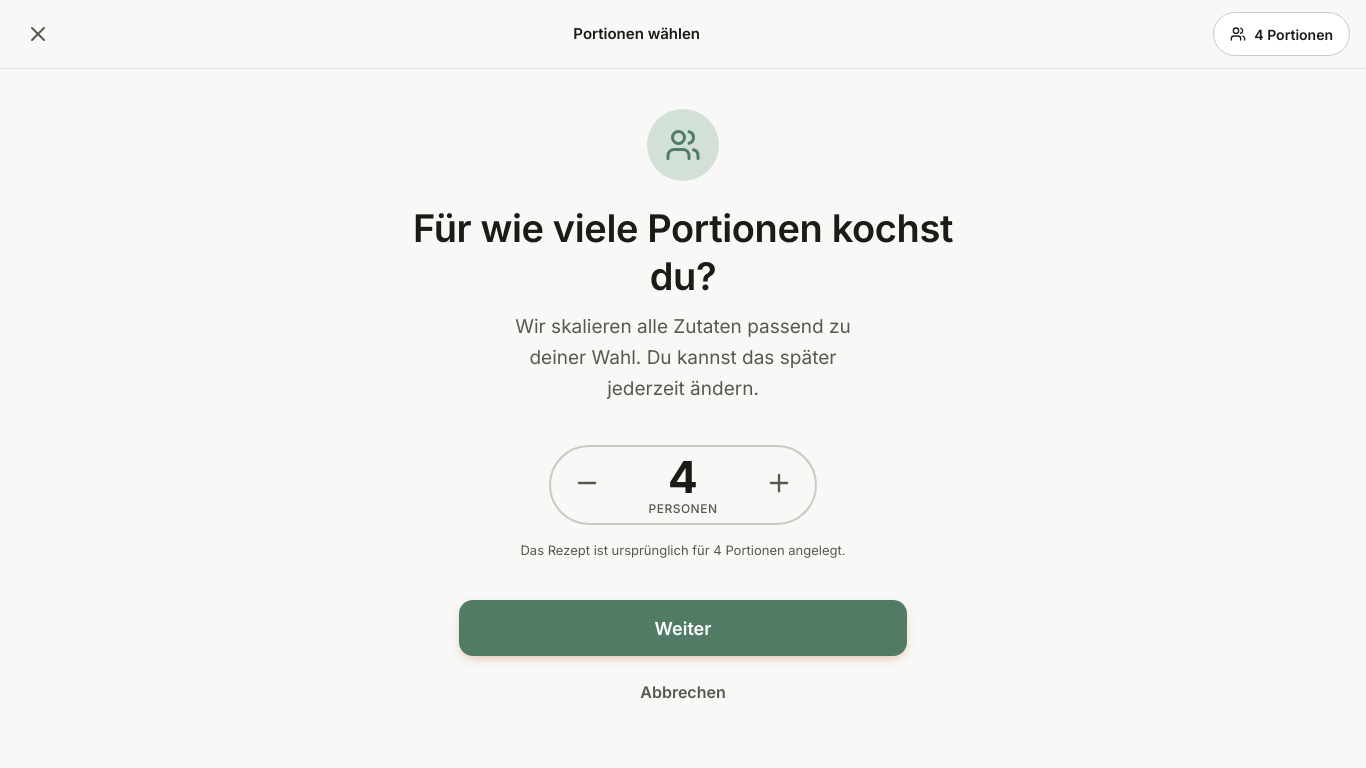
Test: CookModePage — exit confirmation › cancel keeps the user in cook mode
The width and height of the screenshot is (1366, 768).
Expected: the element with test id "cook-portions-picker" is shown, [413,109,953,716]
Click the button named "Kochmodus schliessen": (38, 34) [16,12,60,56]
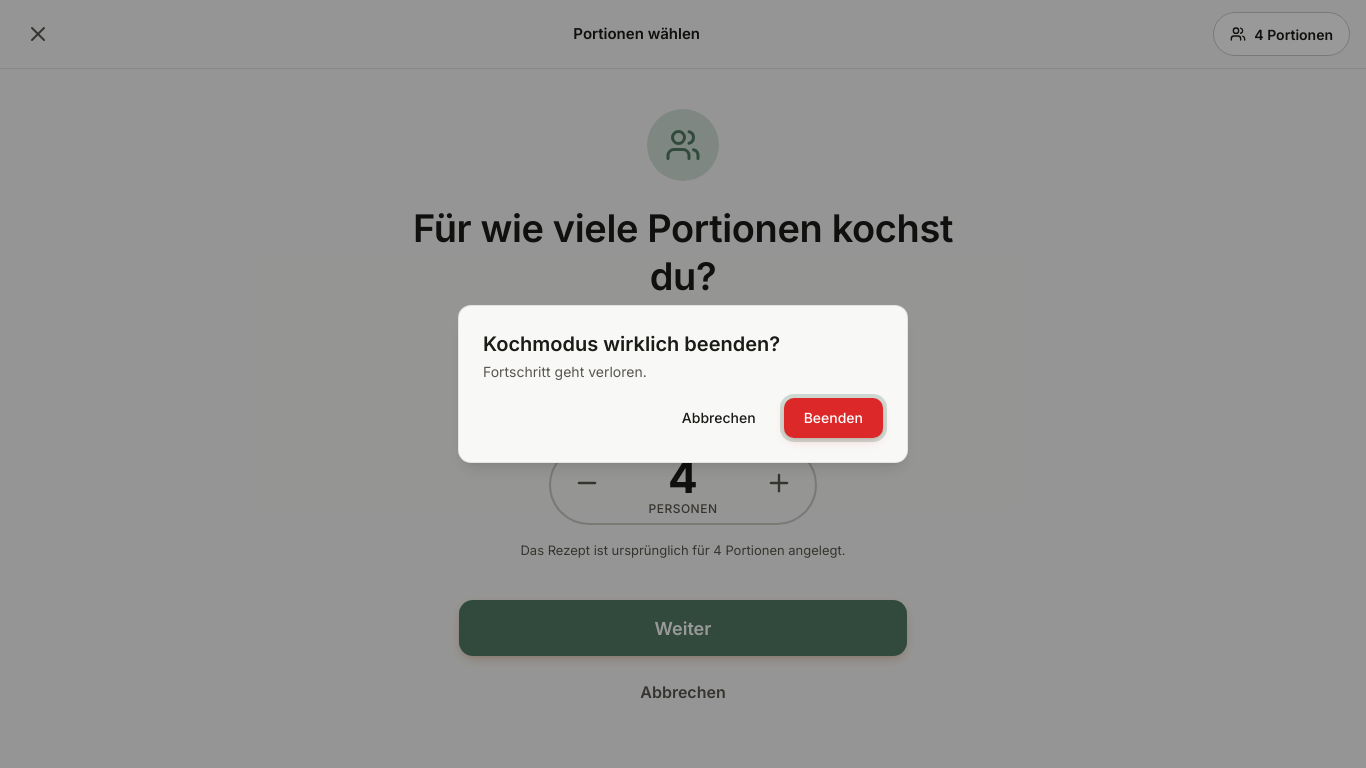
Now the heading "Kochmodus wirklich beenden?" is shown, box [483,332,780,356]
// Cancel via the "Abbrechen" button inside the confirm dialog.
Click the button "Abbrechen": (719, 418) [662,398,776,438]
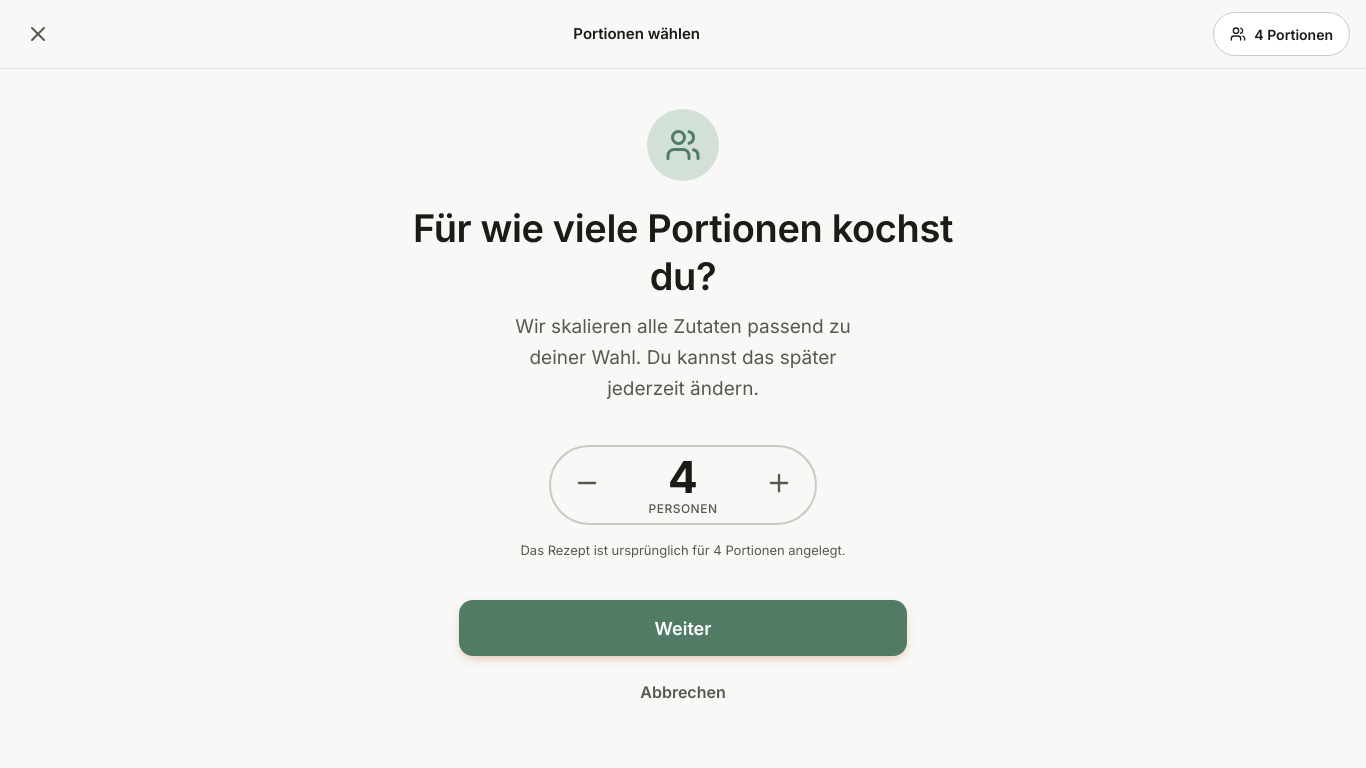
Expected: the element with test id "cook-portions-picker" is shown, [413,109,953,716]
Now the dialog with test id "confirm-dialog" is gone
